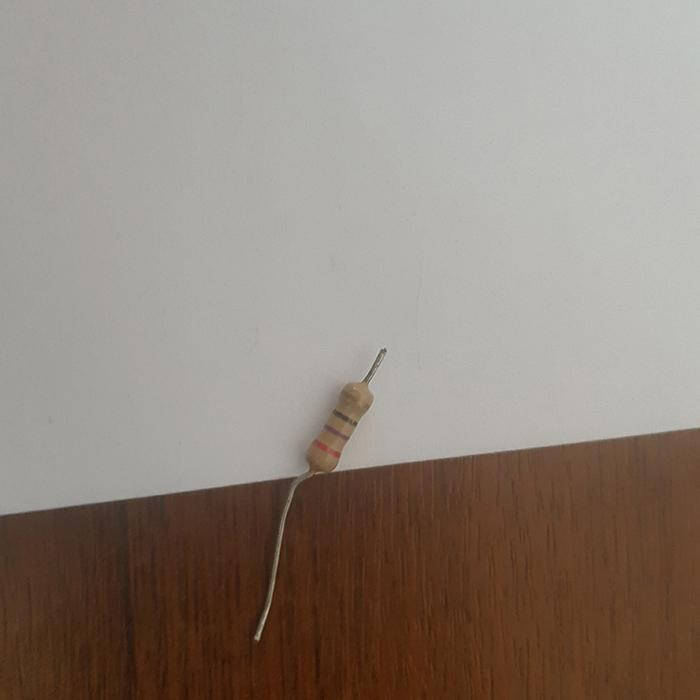resistor: (306, 377, 375, 474)
